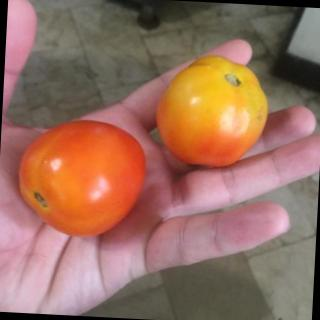Tomat: (15, 106, 152, 245), (147, 48, 273, 183)
